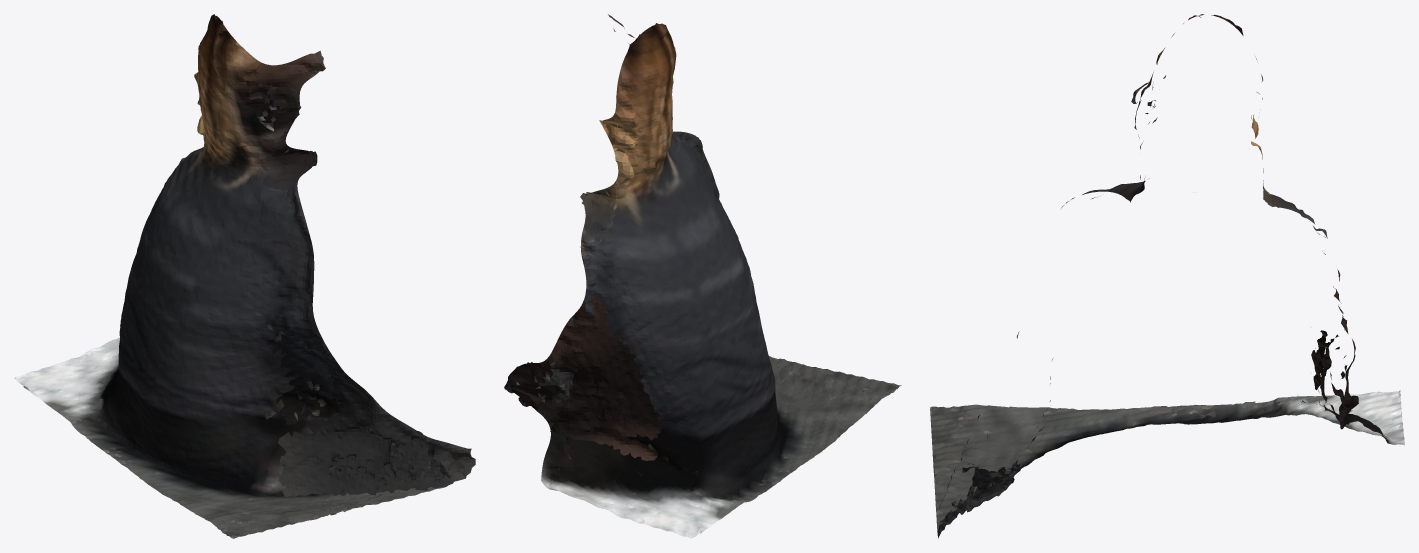
3 renders of one model, left to right at view 1: azimuth 30°, elevation 25°; view 2: azimuth 150°, elevation 25°; view 3: azimuth 270°, elevation 25°, orthographic. The views are drawn at different scales.
Bounding box in the file's own units: 0.4626 × 0.7091 × 0.6555.
Materials: 1 (1 with a texture image).
